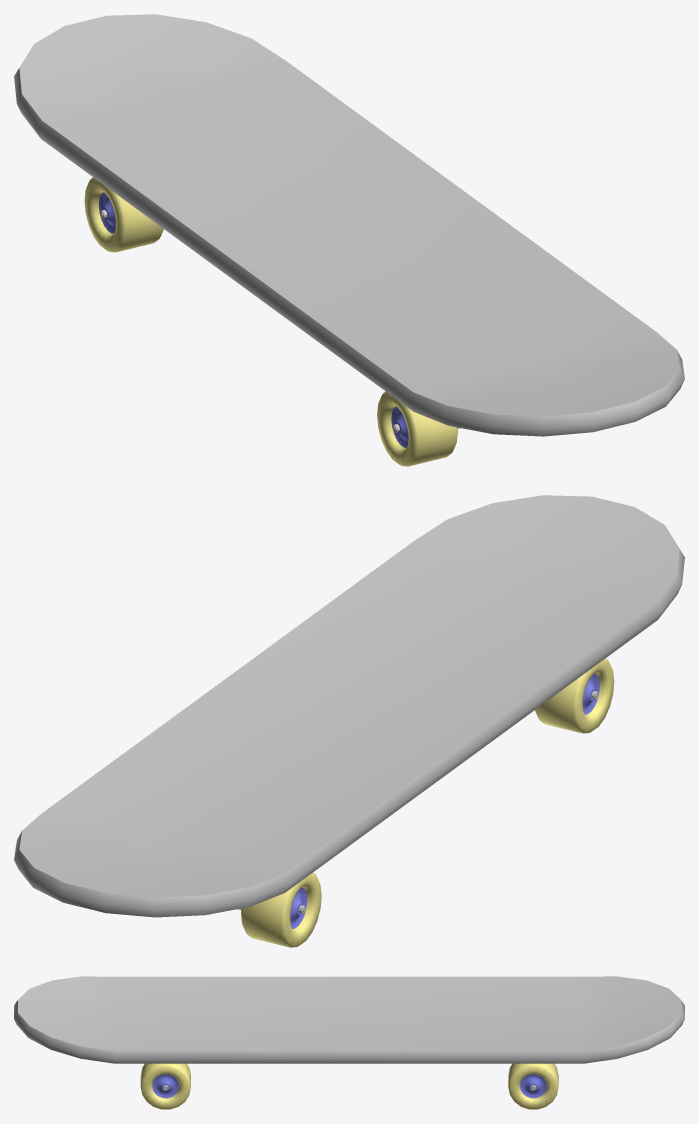
3 renders of one model, top to bottom at view 1: azimuth 30°, elevation 25°; view 2: azimuth 150°, elevation 25°; view 3: azimuth 270°, elevation 25°, orthographic. The views are drawn at different scales.
Visible parts, largest first — view 1: Cylinder001, Object001; view 2: Cylinder001, Object001; view 3: Cylinder001, Object001.
Part boxes in pixels (<box>): Cylinder001: <box>14,14,684,436</box>; Object001: <box>84,177,457,466</box>; Cylinder001: <box>14,495,684,917</box>; Object001: <box>241,658,614,947</box>; Cylinder001: <box>14,976,684,1063</box>; Object001: <box>140,1063,558,1109</box>.
Size of the model in its own units: 10.77 by 4.85 by 39.46.
